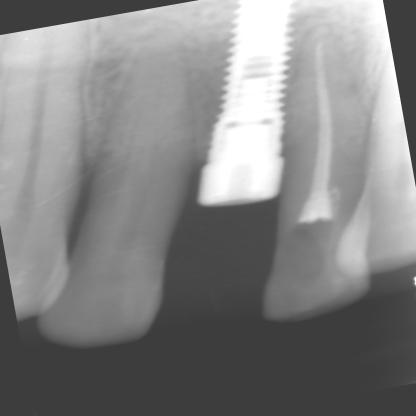Bego: (197, 0, 301, 210)
